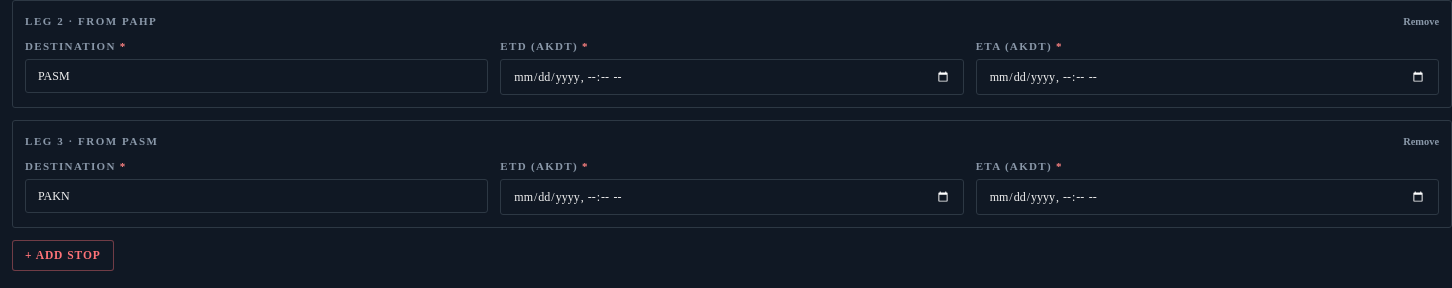
Test: StopsEditor › removes a leg
The width and height of the screenshot is (1452, 288).
Click the button named "Remove leg 2" at (1421, 22), box [1403, 14, 1439, 30]
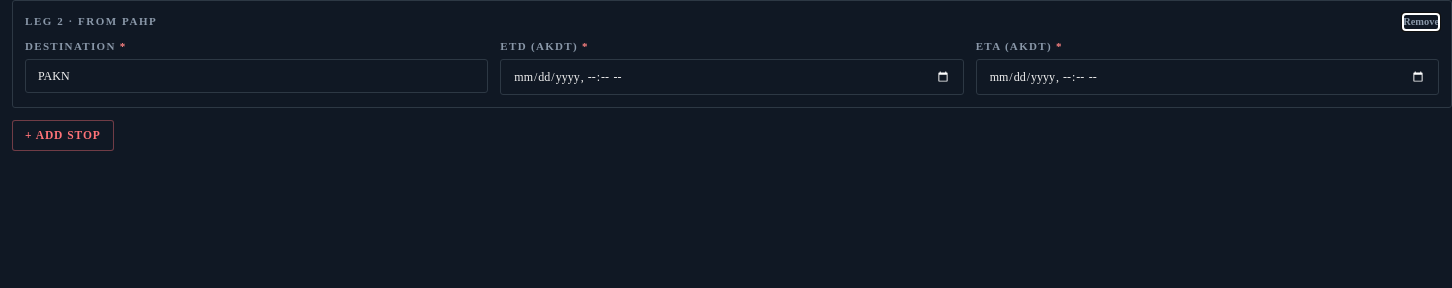
Expected: the element "Leg 2" shows "from PAHP", [12, 0, 1451, 108]
Now the field showing "PAKN" is shown, box [25, 59, 488, 93]
